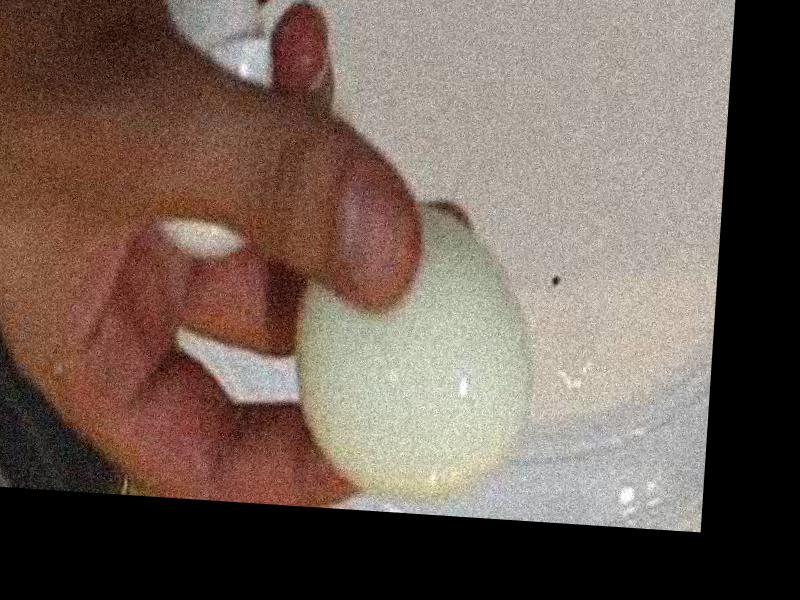Eggs: (285, 193, 536, 515)
